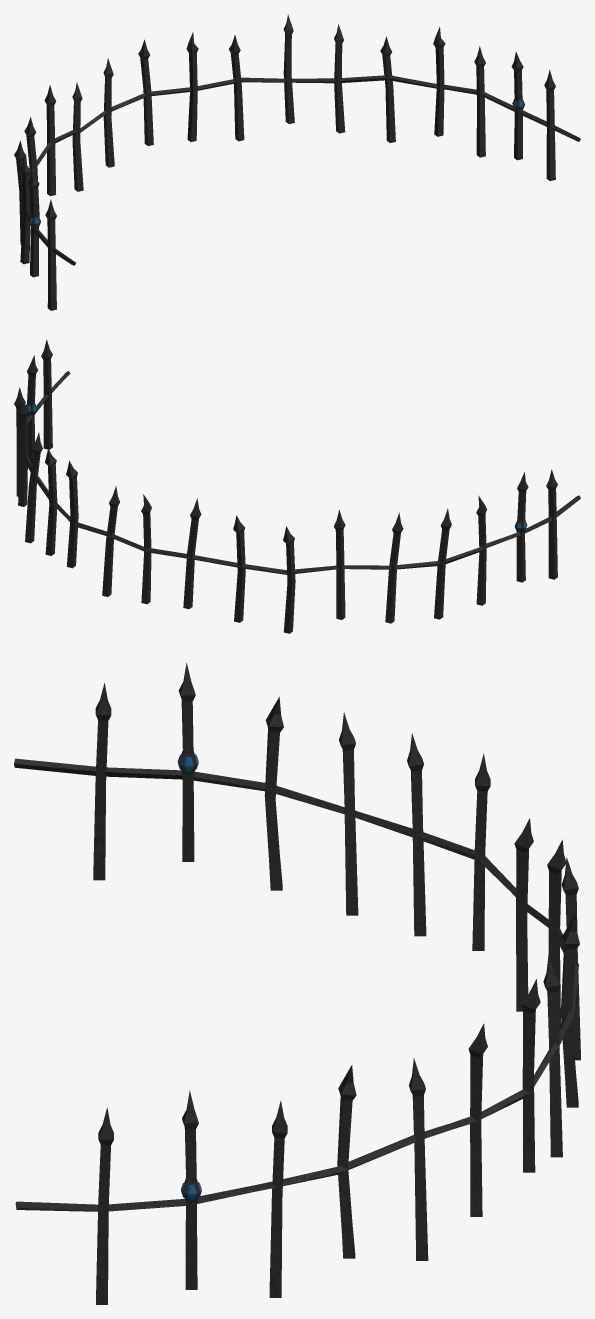
File: Spikes_Semicircle.dae
3 views of the same model, one above another, from view 1: azimuth 30°, elevation 25°; view 2: azimuth 150°, elevation 25°; view 3: azimuth 270°, elevation 25° (orthographic). The views are drawn at different scales.
Visible parts, largest first — view 1: Spikes_Semicircle; view 2: Spikes_Semicircle; view 3: Spikes_Semicircle.
Part boxes in pixels (box(x1,y1,x2,y2)): Spikes_Semicircle: box(14, 14, 580, 310); Spikes_Semicircle: box(14, 339, 580, 633); Spikes_Semicircle: box(14, 663, 580, 1304).
Size of what is drawn, in the model's own units: 1413 by 331 by 758.
